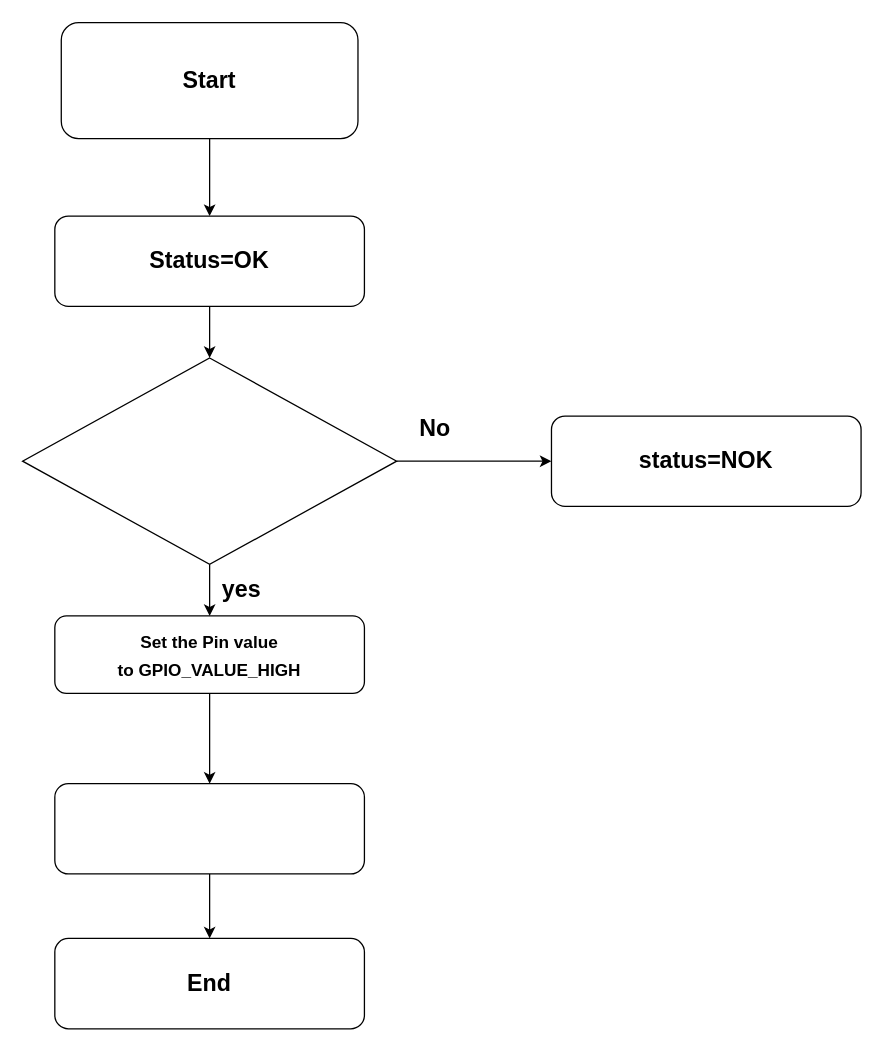
The diagram is 884 pixels wide and 1051 high, and some of its shapes have lost their labels. Each missing label, with the centre of its shape:
check the validity of the sw_ch_No: the point at 209,460
return status: the point at 209,828
